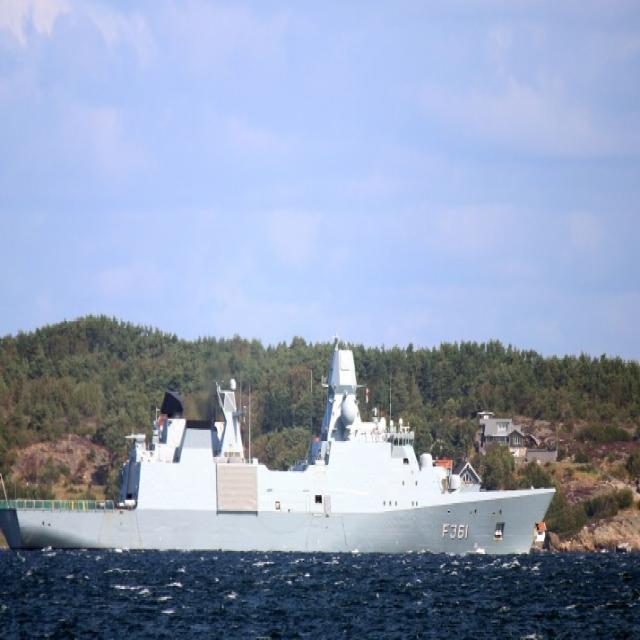Fragata: (1, 318, 559, 569)
